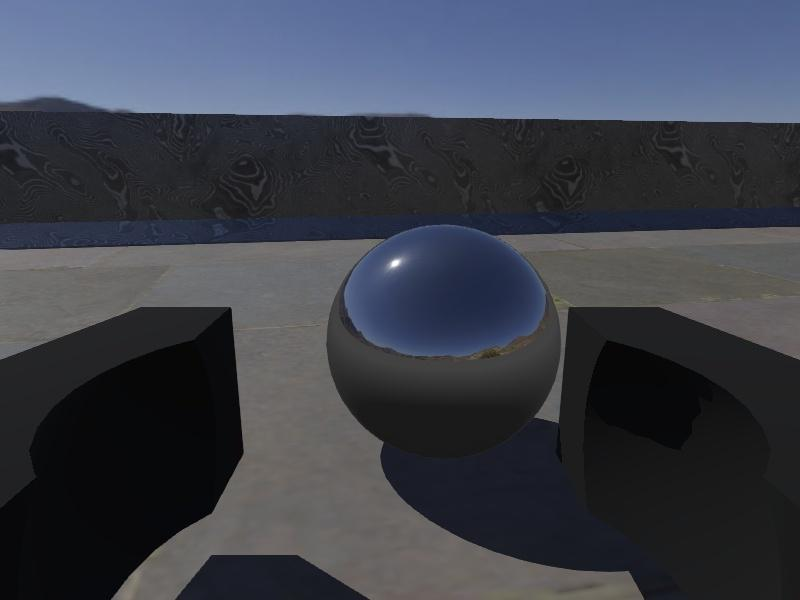steel ball: (325, 223, 562, 463)
